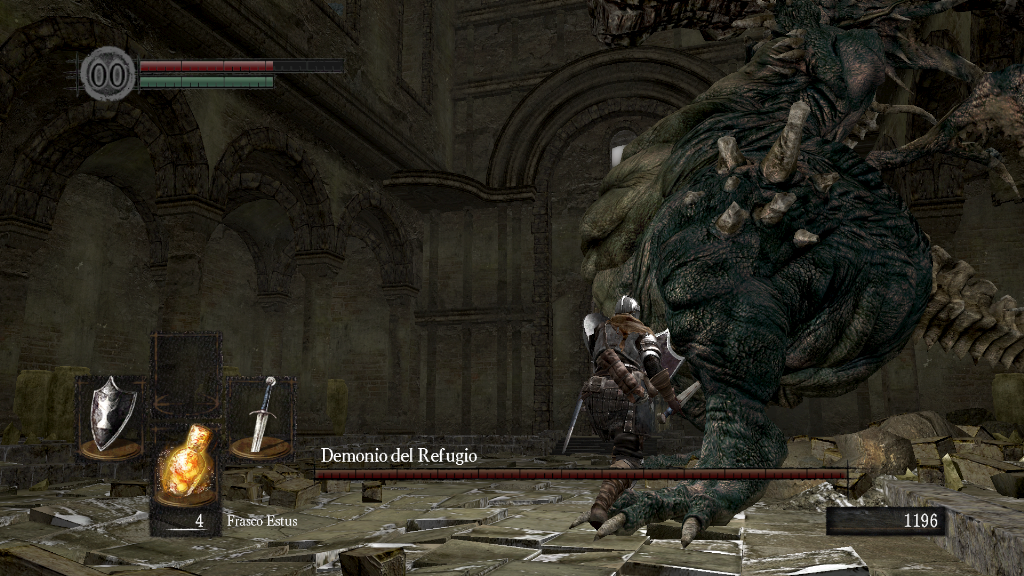asylumDemon: (564, 4, 1024, 550)
bossHP: (314, 469, 847, 479)
health: (138, 58, 343, 71)
humanity: (80, 45, 136, 102)
player: (561, 294, 704, 541)
souls: (825, 506, 945, 536)
stamina: (138, 74, 274, 88)
